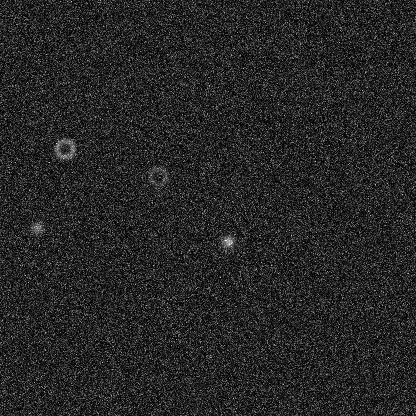Ring: (52, 136, 76, 160), (146, 164, 170, 188)
Spot: (219, 233, 235, 249), (29, 220, 45, 236)
